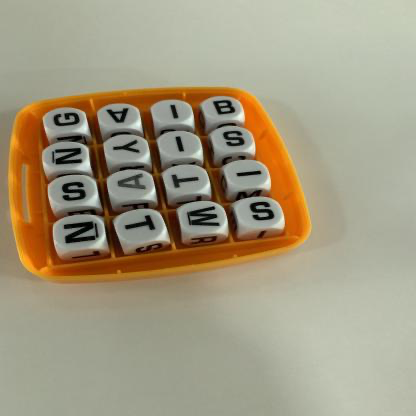a: (109, 171, 155, 201), (99, 105, 141, 129)
b: (205, 97, 244, 120)
g: (44, 109, 88, 133)
i: (227, 161, 270, 189), (160, 132, 203, 159), (152, 100, 194, 125)
n: (54, 215, 106, 250), (44, 142, 90, 171)
s: (48, 176, 98, 207), (237, 198, 284, 230), (214, 127, 255, 153)
t: (117, 210, 166, 245), (165, 165, 209, 194)
w: (181, 202, 228, 234)
y: (105, 135, 150, 162)
